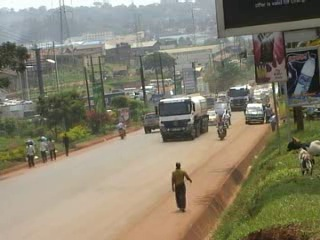Car: (212, 100, 234, 119), (206, 107, 218, 127)
Motorcycle: (213, 115, 227, 142), (113, 120, 127, 142), (219, 109, 232, 130)
